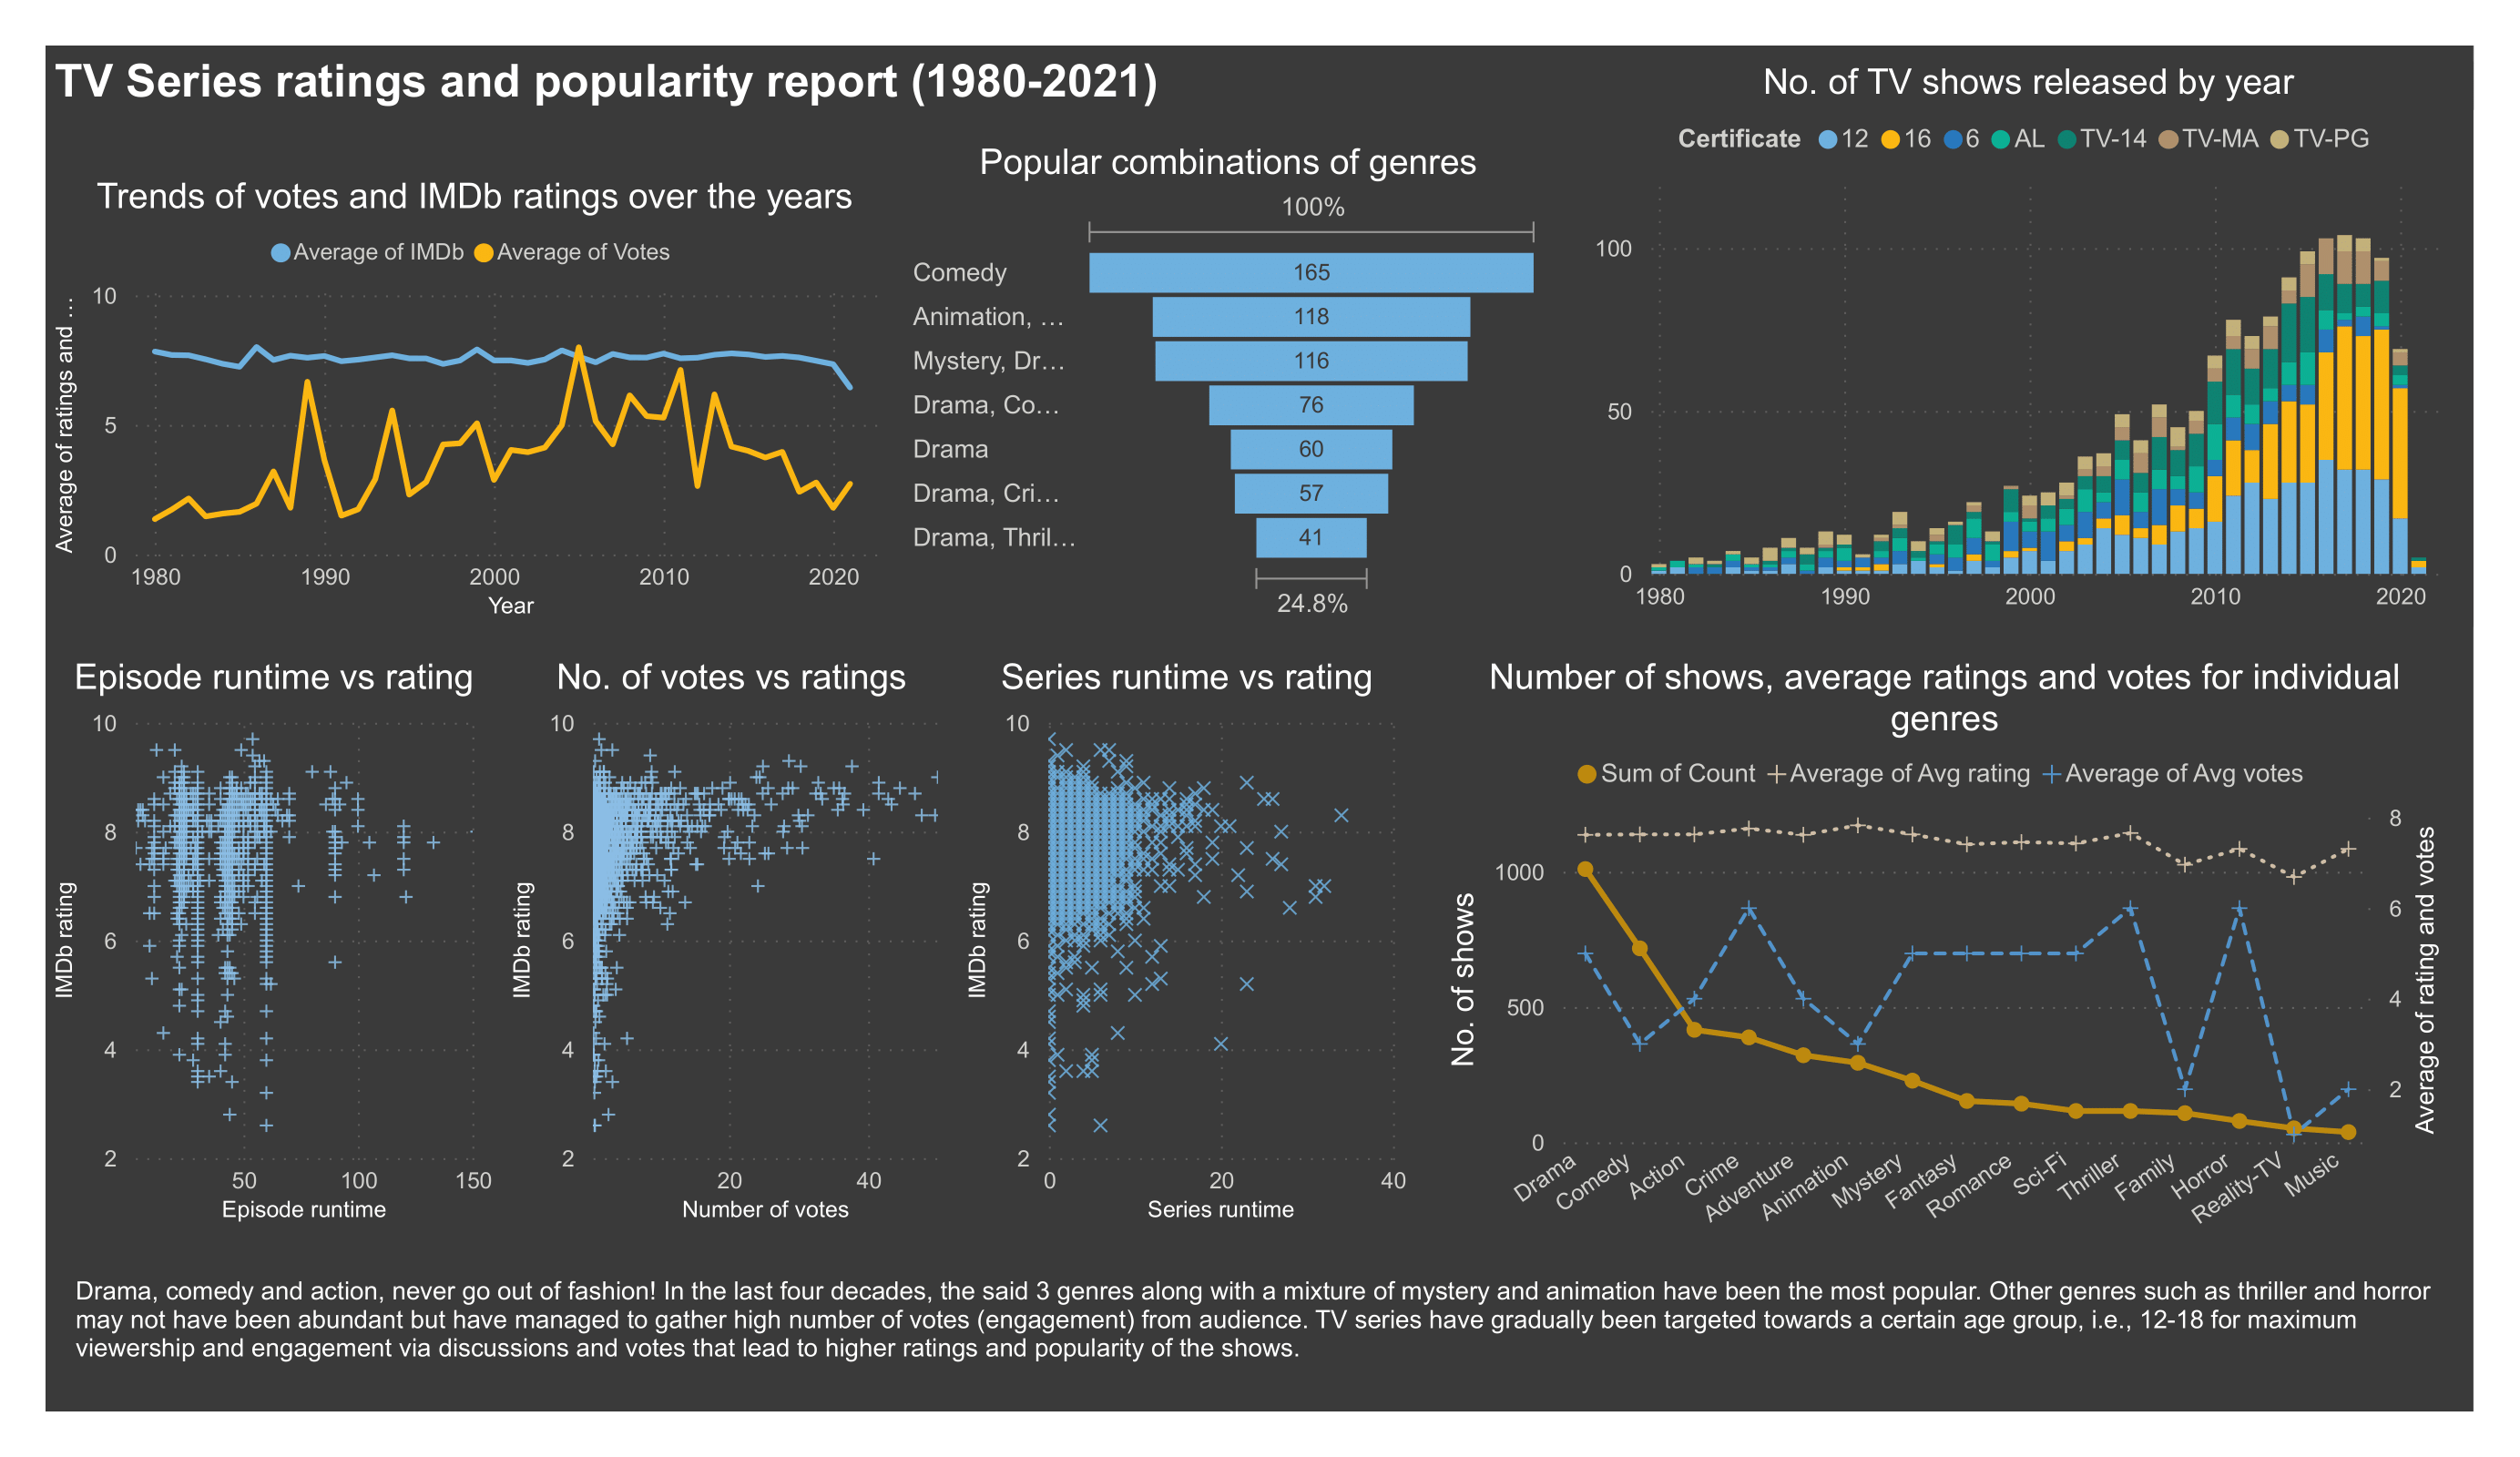

This screenshot's page, from the dashboard's own definition file:
{"tool":"powerbi","page":{"name":"Page 2","canvas":[1280,720],"ordinal":0},"visuals":[{"type":"textbox","box":[0,0,754.2,40.3],"z":0},{"type":"columnChart","title":"No. of TV shows released by year","fields":{"Category":["series_data_preproc3.Start_year"],"Y":["CountNonNull(series_data_preproc3.Title)"],"Series":["series_data_preproc3.Certificate_b"]},"box":[810.5,8.6,469.4,298.3],"z":1000},{"type":"lineChart","title":"Trends of votes and IMDb ratings over the years","fields":{"Category":["series_data_preproc3.Start_year"],"Y":["Avg(series_data_preproc3.IMDb)","Avg(series_data_preproc3.Votes)"]},"box":[0,68.5,452.3,238.4],"z":2000},{"type":"funnel","title":"Popular combinations of genres","fields":{"Category":["series_data_preproc3.Genre"],"Y":["CountNonNull(series_data_preproc3.Genre)"]},"box":[452.3,50.1,342.3,256.7],"z":3000},{"type":"scatterChart","title":"Episode runtime vs rating","fields":{"X":["series_data_preproc3.Episode_runtime"],"Y":["series_data_preproc3.IMDb"]},"box":[0,321.5,240.8,303.2],"z":4000},{"type":"scatterChart","title":"No. of votes vs ratings","fields":{"X":["series_data_preproc3.Votes"],"Y":["series_data_preproc3.IMDb"]},"box":[240.8,321.5,240.8,303.2],"z":5000},{"type":"scatterChart","title":"Series runtime vs rating","fields":{"X":["series_data_preproc3.Series_runtime"],"Y":["series_data_preproc3.IMDb"]},"box":[481.6,321.5,240.8,303.2],"z":6000},{"type":"lineChart","title":"Number of shows, average ratings and votes for individual genres","fields":{"Category":["for genre count.Genre"],"Y":["Sum(for genre count.Count)"],"Y2":["Avg(for genre count.Avg rating)","Avg(for genre count.Avg votes)"]},"box":[734.7,321.5,533,321.5],"z":7000},{"type":"textbox","box":[11,643.6,1257,76.8],"z":8000}]}

Visuals, with their boxes in screenshot pixels (x1, y1, x2, y2):
textbox: x1=46, y1=46, x2=1476, y2=122
"No. of TV shows released by year" columnChart: x1=1584, y1=62, x2=2474, y2=627
"Trends of votes and IMDb ratings over the years" lineChart: x1=46, y1=176, x2=903, y2=627
"Popular combinations of genres" funnel: x1=903, y1=140, x2=1554, y2=627
"Episode runtime vs rating" scatterChart: x1=46, y1=656, x2=503, y2=1230
"No. of votes vs ratings" scatterChart: x1=503, y1=656, x2=959, y2=1230
"Series runtime vs rating" scatterChart: x1=959, y1=656, x2=1416, y2=1230
"Number of shows, average ratings and votes for individual genres" lineChart: x1=1440, y1=656, x2=2451, y2=1266
textbox: x1=66, y1=1267, x2=2452, y2=1411
